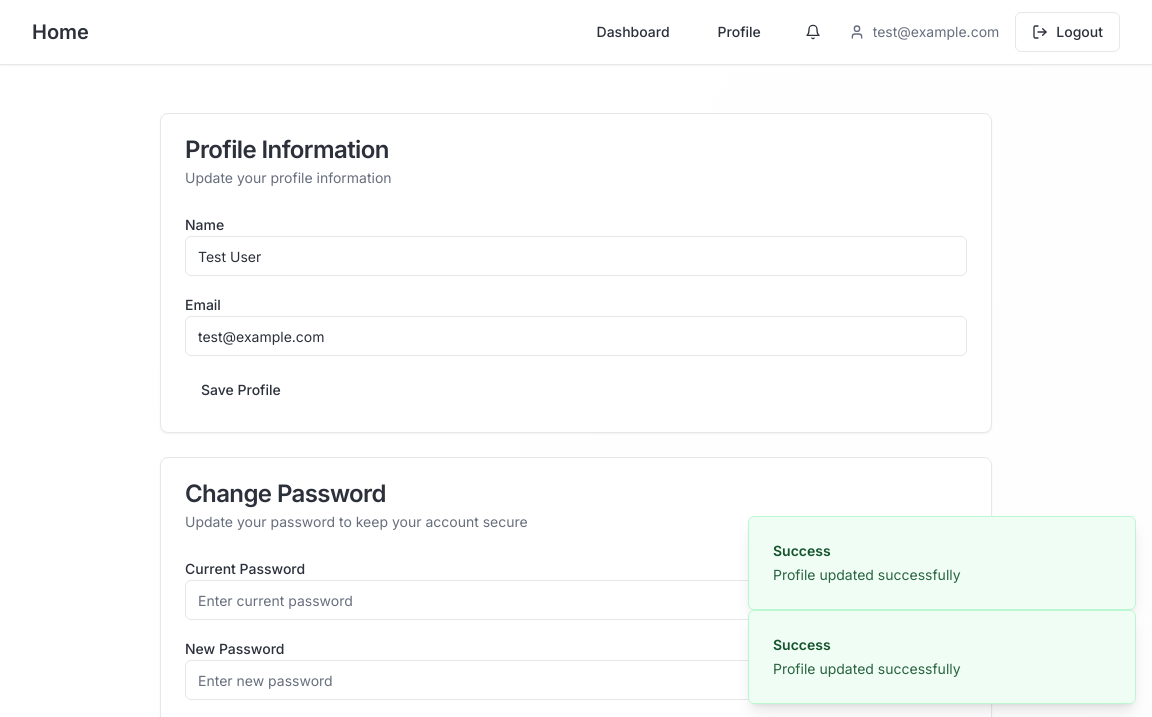
Test: Profile Page › should show error on update failure
Update email
Step 1. Replace the text in the field labelled "Email" with "duplicate@example.com" → (576, 336), box [185,316,967,356]
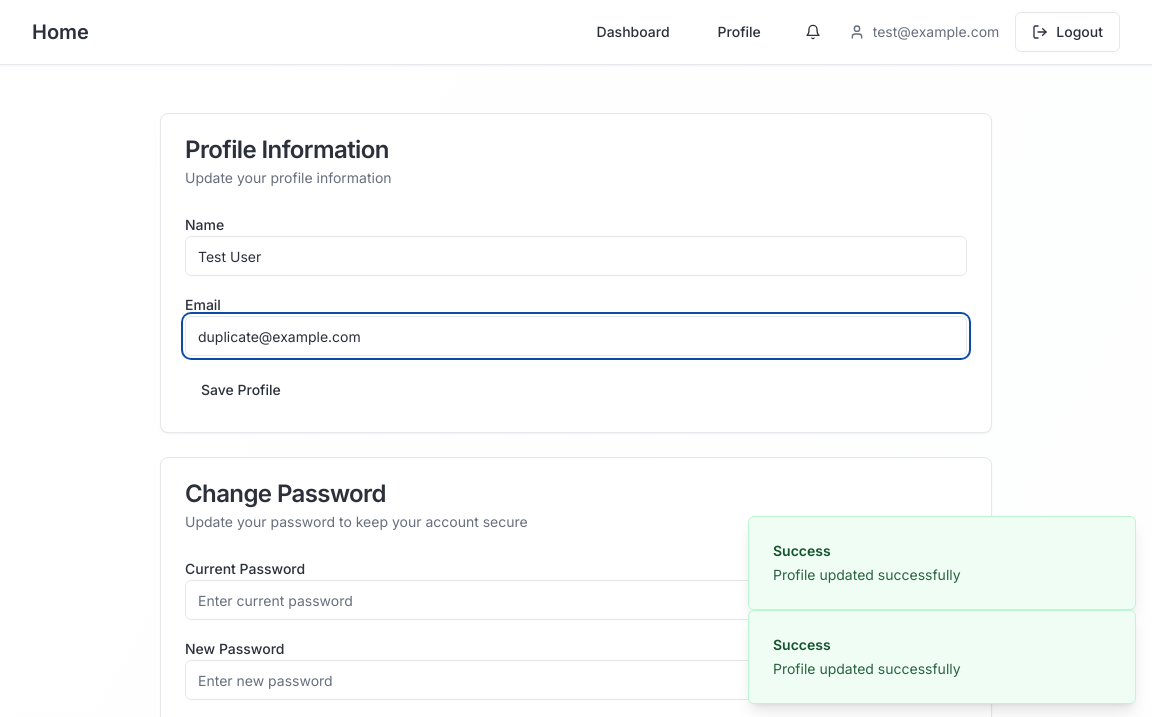
Find and click save button
Step 2. Click the button "Save Profile" → (241, 390), box [185,372,297,408]
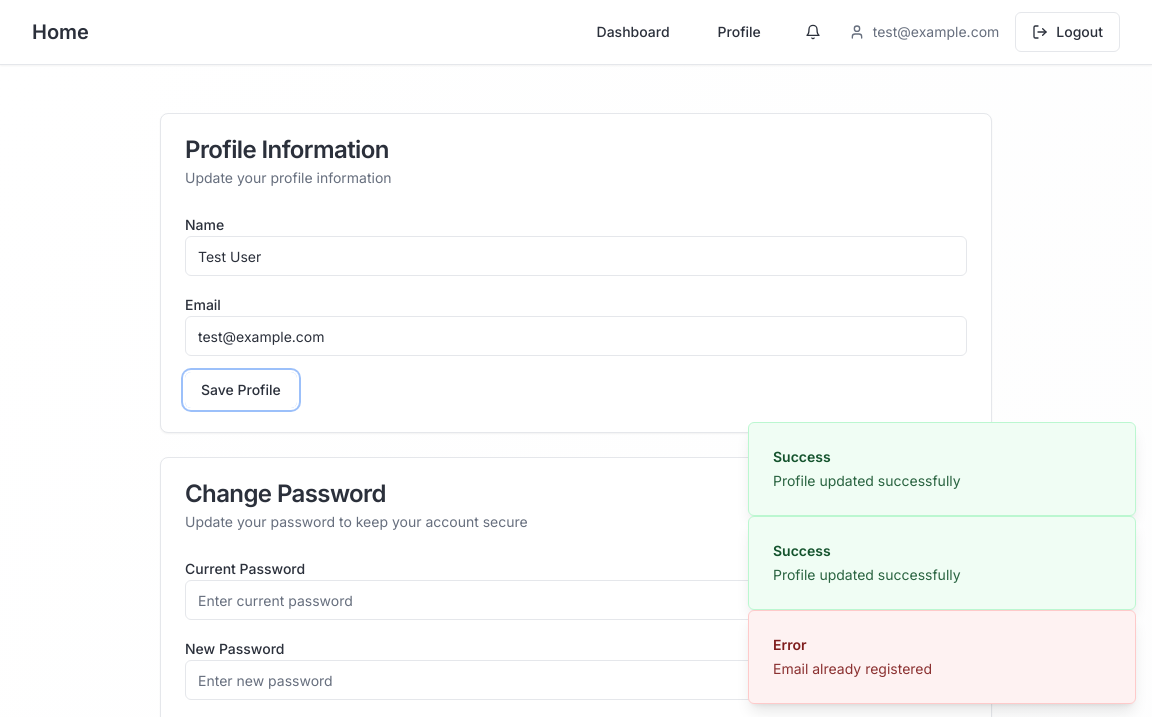
expect the text "Email already registered" is shown: met, box [773,659,932,679]
